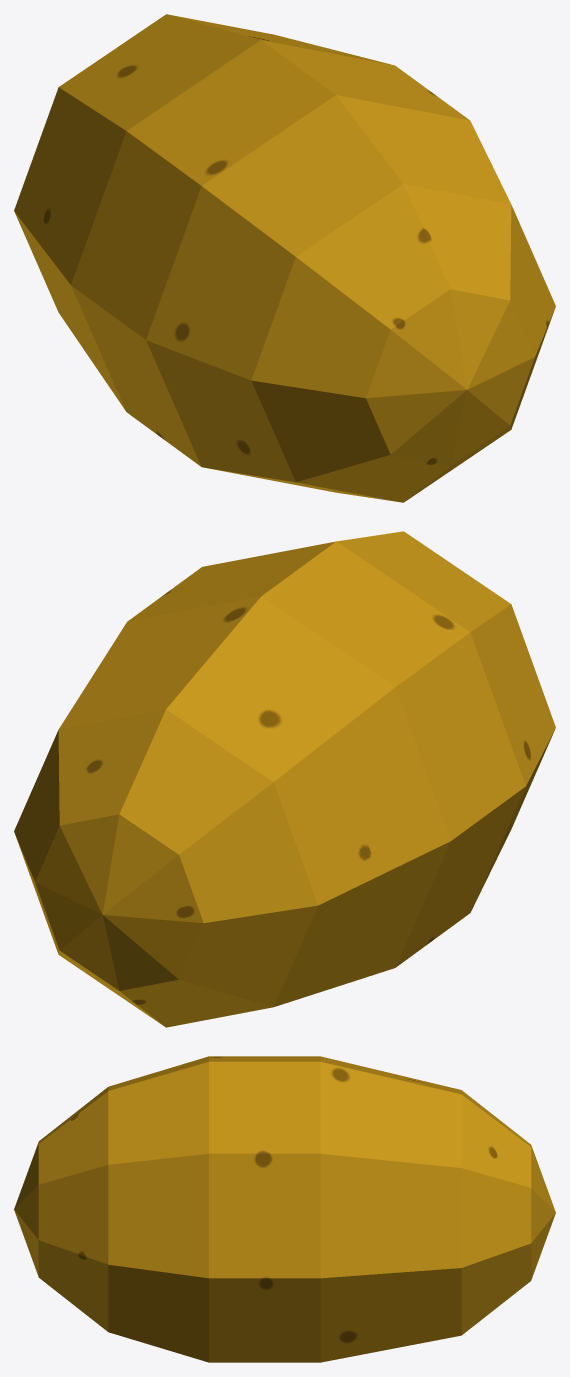
File: Potato.fbx
3 renders of one model, top to bottom at view 1: azimuth 30°, elevation 25°; view 2: azimuth 150°, elevation 25°; view 3: azimuth 270°, elevation 25°, orthographic. The views are drawn at different scales.
Visible parts, largest first — view 1: Sphere; view 2: Sphere; view 3: Sphere.
Part boxes in pixels (x1,y1,x2,y2): Sphere: (14,14,555,502); Sphere: (14,531,555,1027); Sphere: (14,1056,555,1362).
Size of the model in its own units: 11.7 by 11.7 by 19.45.
1 material, 1 textured.
